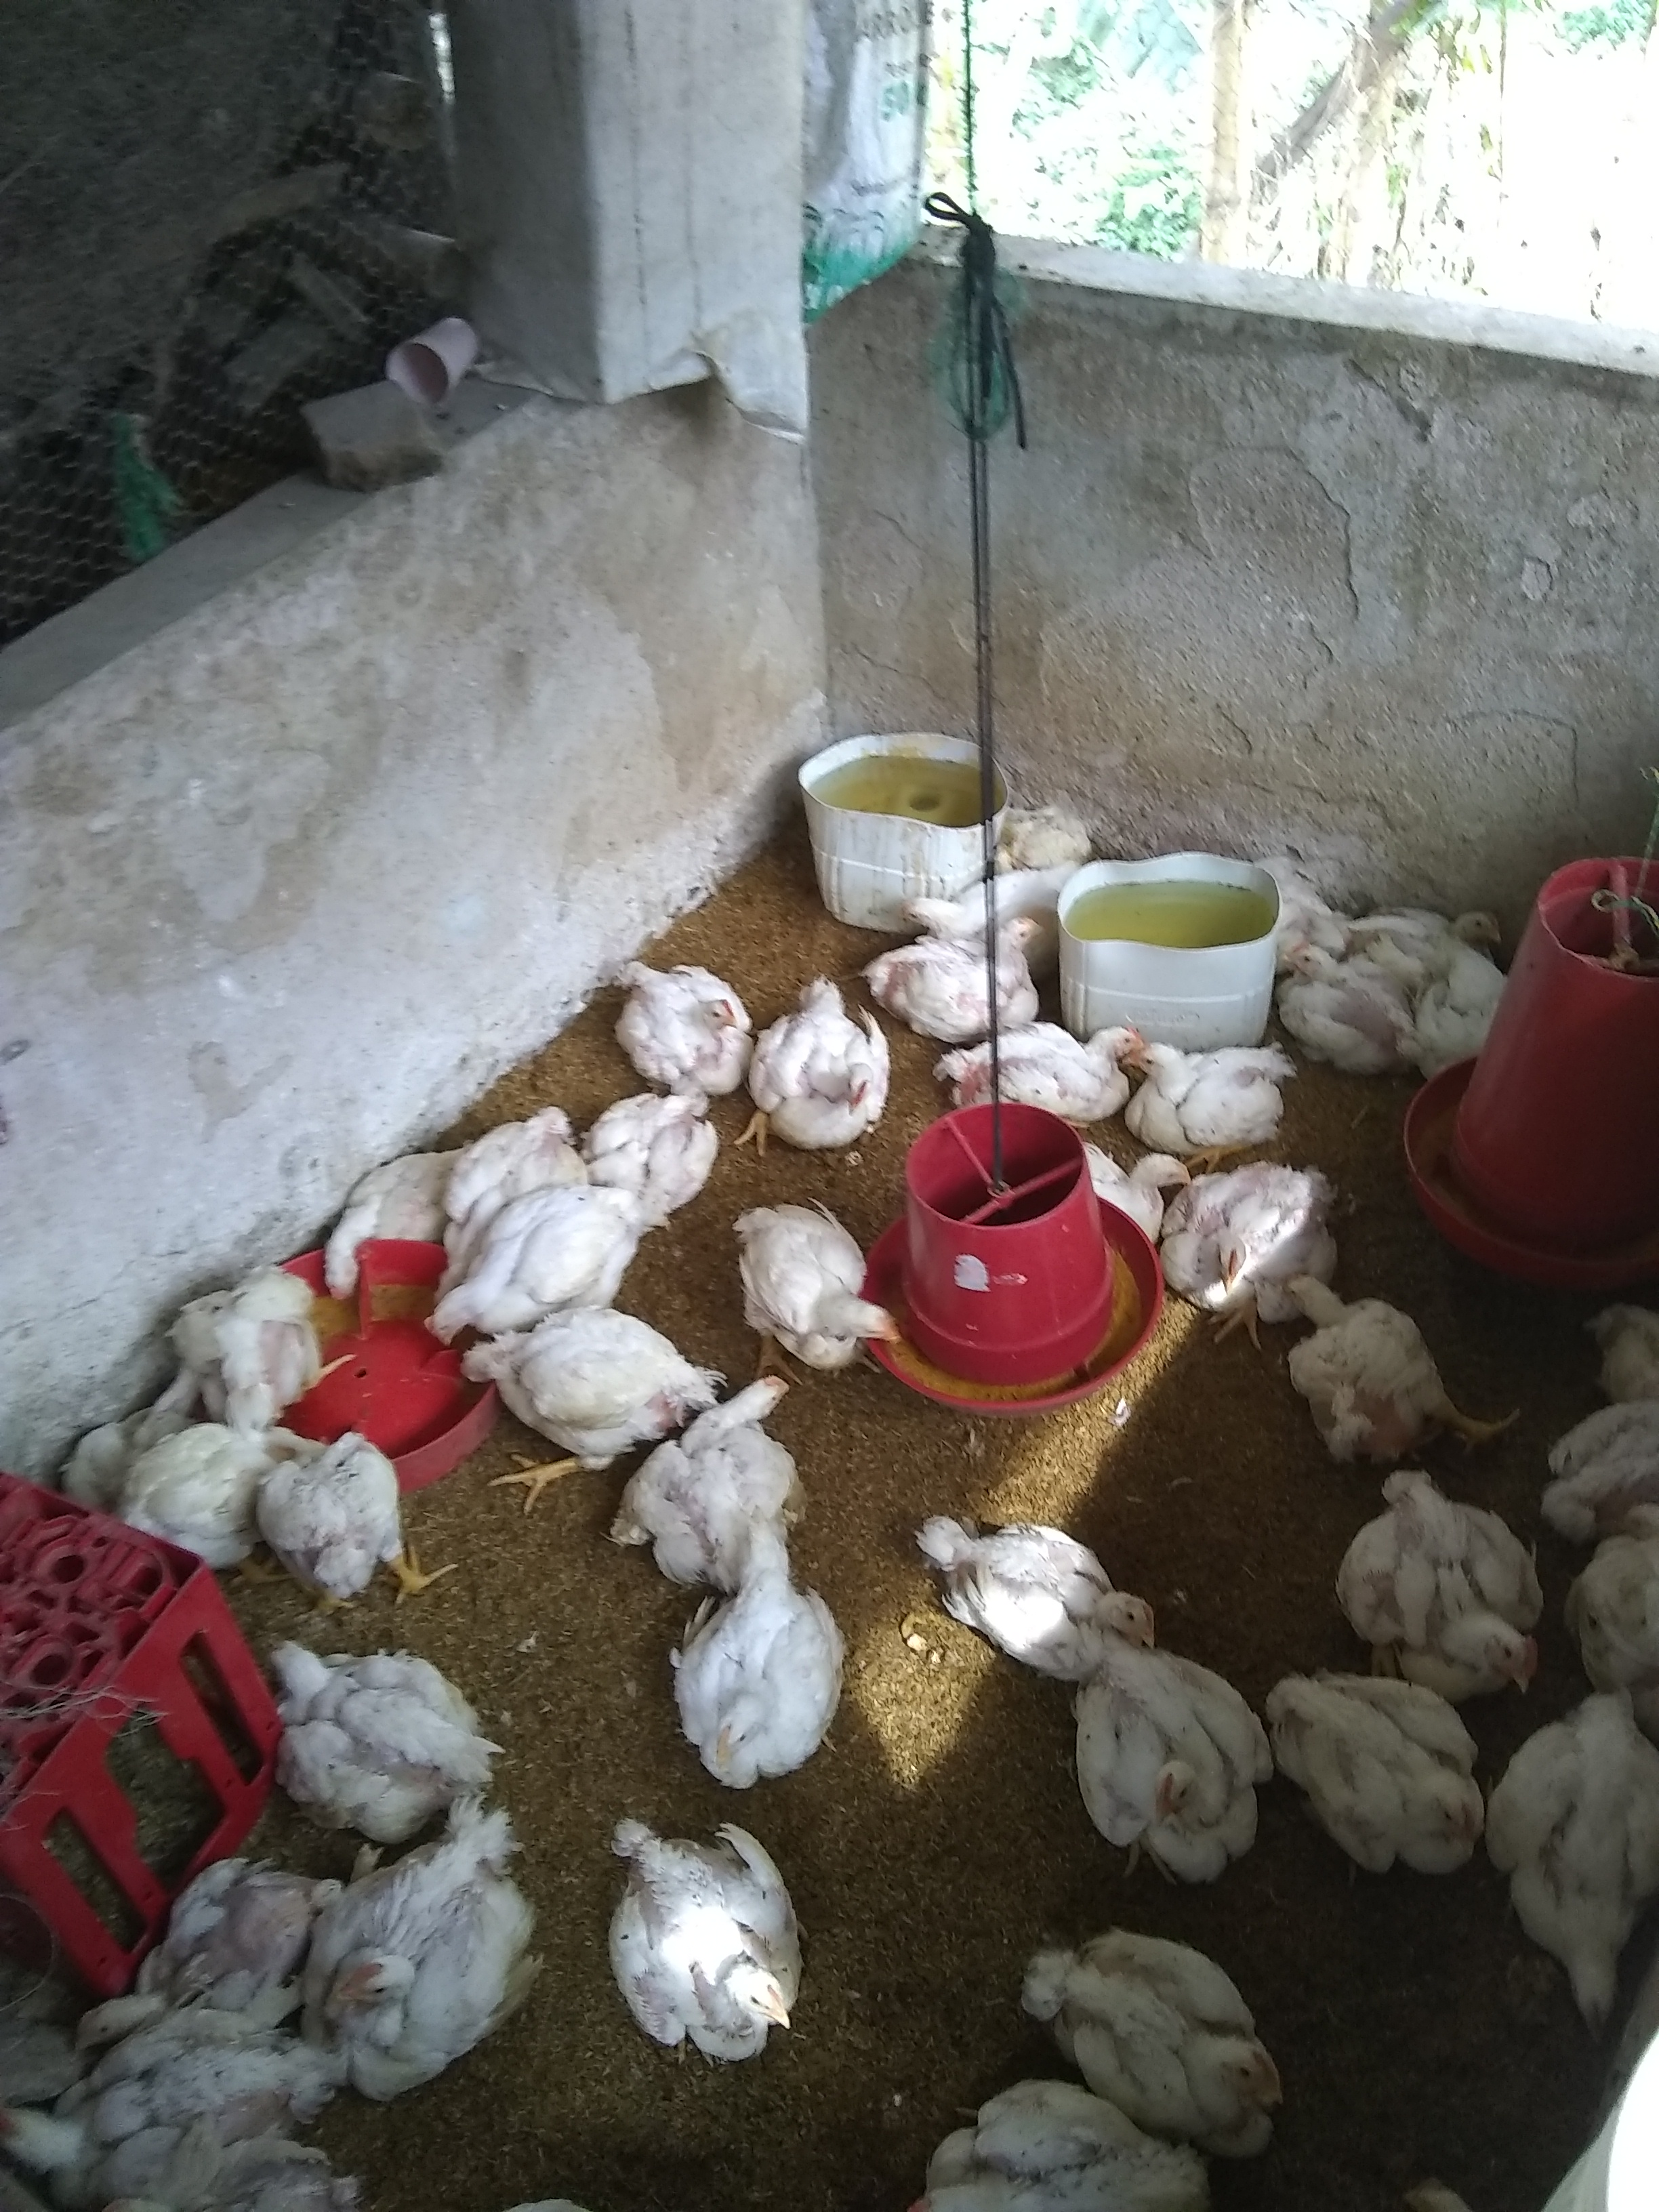Pollos: (314, 1824, 525, 2076), (1502, 1703, 1659, 2031), (606, 1818, 812, 2066), (1051, 1932, 1290, 2132), (256, 1634, 505, 1815), (73, 1876, 321, 2055), (685, 1522, 845, 1784), (1364, 1475, 1544, 1689), (418, 1181, 640, 1348), (943, 1503, 1166, 1660), (1300, 1677, 1485, 1865), (1100, 1663, 1255, 1867), (268, 1435, 432, 1608), (1290, 1277, 1436, 1442), (162, 1372, 300, 1529), (742, 1209, 894, 1350), (469, 1329, 631, 1451), (671, 1369, 796, 1522), (324, 1144, 436, 1299), (756, 1008, 884, 1136), (1270, 942, 1403, 1062), (1138, 1043, 1293, 1144), (1183, 1169, 1281, 1299), (976, 1021, 1140, 1097), (596, 1090, 709, 1195), (640, 965, 748, 1073), (965, 911, 1040, 1014), (1101, 1144, 1192, 1212), (903, 867, 983, 941), (1405, 906, 1500, 965)
